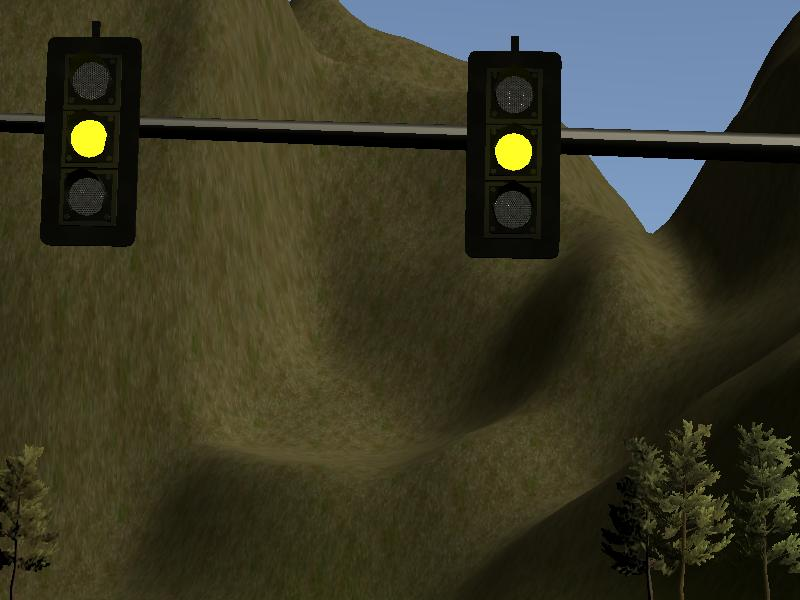yellow: (466, 50, 558, 257), (47, 38, 139, 245)
